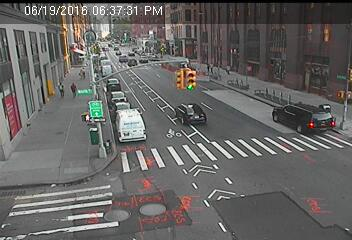neg: (5, 68, 32, 104), (213, 112, 238, 145), (101, 185, 121, 210), (142, 15, 159, 39), (130, 113, 145, 133), (18, 27, 33, 47), (64, 175, 78, 194), (257, 163, 271, 182), (161, 168, 175, 186), (258, 142, 270, 157), (303, 102, 314, 117), (269, 44, 279, 58), (118, 29, 128, 42), (196, 22, 205, 34), (81, 32, 90, 44), (81, 105, 88, 114)
pos: (75, 63, 88, 80), (55, 80, 66, 95), (222, 62, 233, 77), (69, 81, 79, 95), (207, 62, 213, 71)
